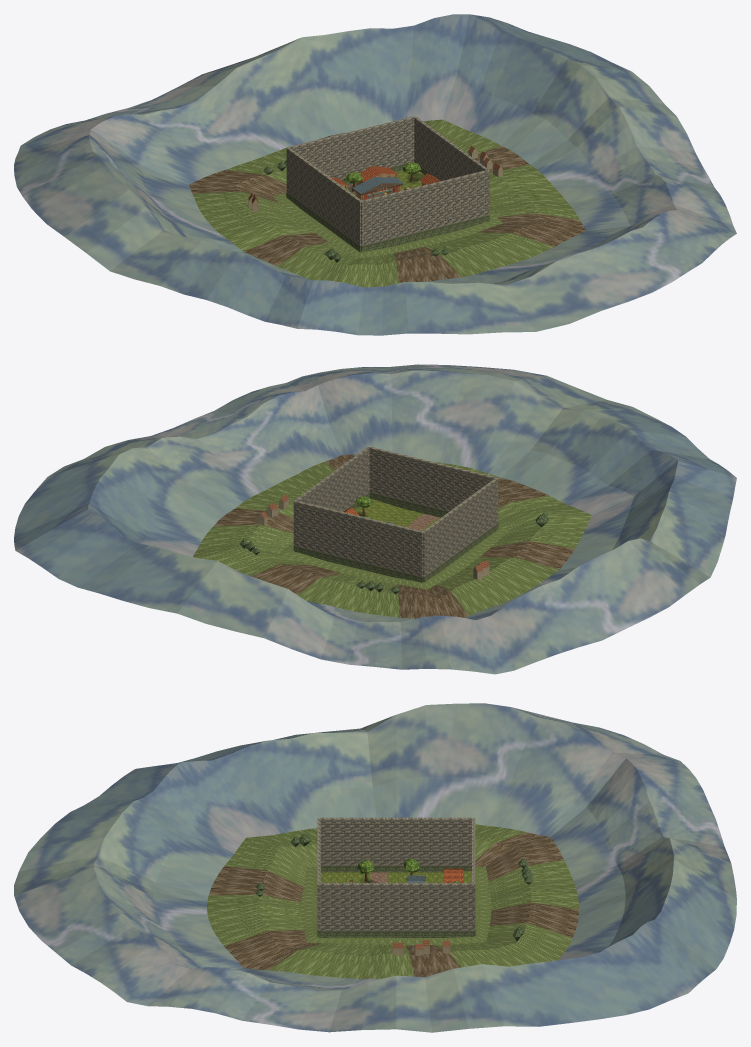
Rendered from PaperCourt.fbx.
3 renders of one model, top to bottom at view 1: azimuth 30°, elevation 25°; view 2: azimuth 150°, elevation 25°; view 3: azimuth 270°, elevation 25°, orthographic. The views are drawn at different scales.
Parts seen in each view (by area): view 1: Surroundings, C_Solids, Set, Rim; view 2: Surroundings, C_Solids, Rim, Terrain; view 3: Surroundings, C_Solids, Rim, Terrain, Set.
Boxes of the visible parts, x1,y1,x2,y2 form: Surroundings: (14, 14, 736, 335); C_Solids: (286, 116, 489, 245); Set: (330, 162, 440, 200); Rim: (286, 162, 489, 252); Surroundings: (14, 364, 736, 674); C_Solids: (293, 446, 498, 577); Rim: (293, 492, 498, 582); Terrain: (355, 499, 440, 531); Surroundings: (14, 703, 736, 1032); C_Solids: (317, 817, 475, 931); Rim: (317, 865, 475, 937); Terrain: (321, 871, 471, 882); Set: (349, 858, 463, 882).
Size of the model in its own units: 19399 by 2493 by 19121.
